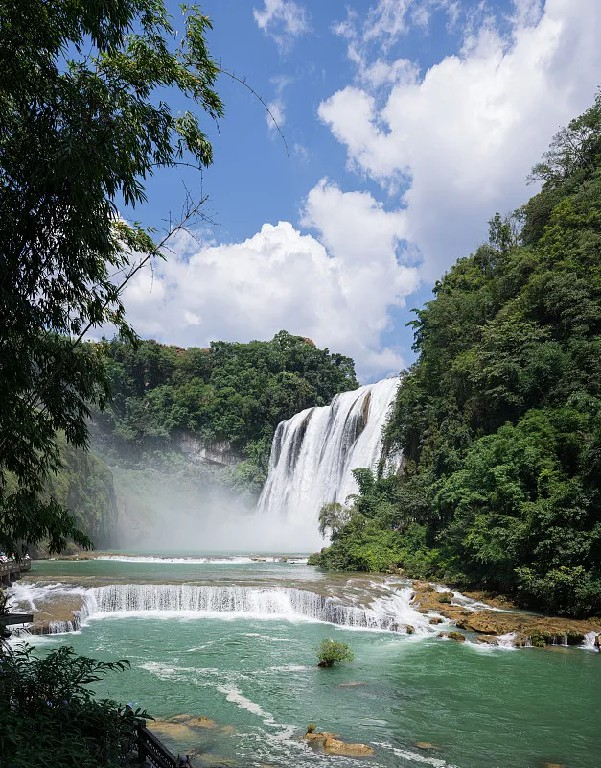Huangguoshu: (251, 376, 403, 554)
